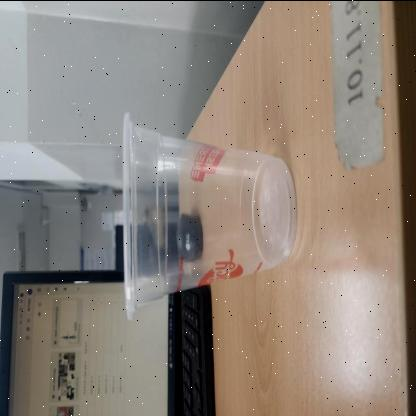Others: (122, 113, 298, 322)
